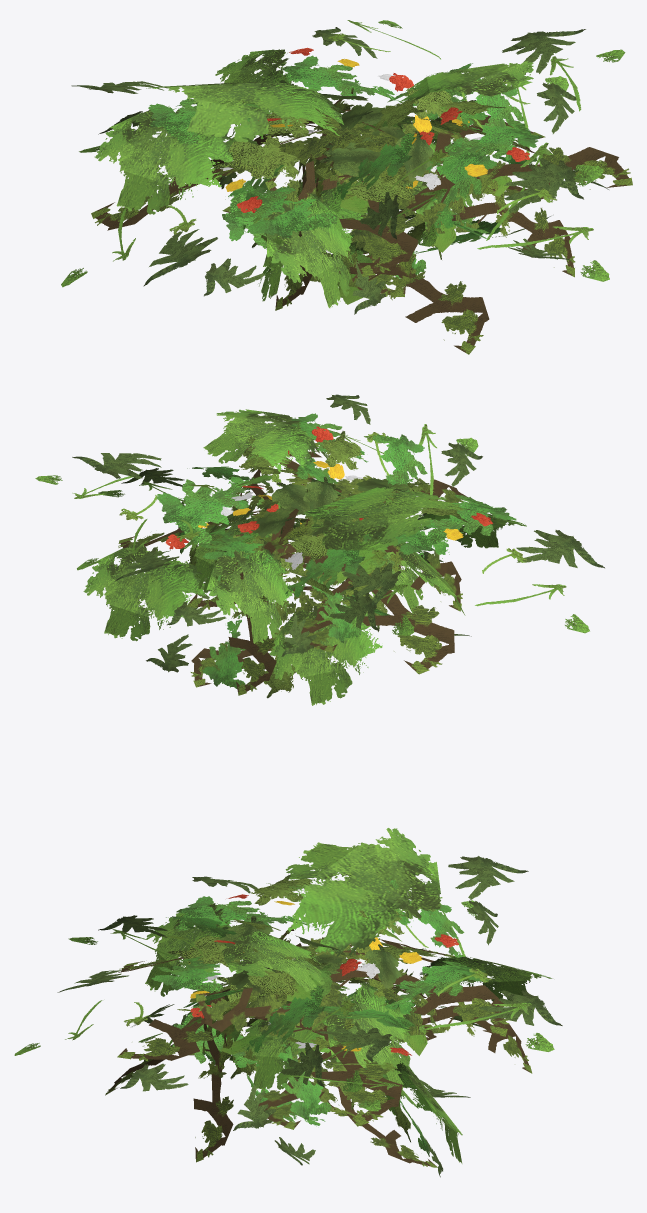
File: Arbre_010_Feuillage.fbx
3 views of the same model, one above another, from view 1: azimuth 30°, elevation 25°; view 2: azimuth 150°, elevation 25°; view 3: azimuth 270°, elevation 25° (orthographic). The views are drawn at different scales.
Parts seen in each view (by area): view 1: Arbre_010_Feuillage; view 2: Arbre_010_Feuillage; view 3: Arbre_010_Feuillage.
Part boxes in pixels (box(x1,y1,x2,y2)): Arbre_010_Feuillage: box(61, 20, 632, 354); Arbre_010_Feuillage: box(35, 394, 604, 705); Arbre_010_Feuillage: box(14, 828, 562, 1177).
Size of the model in its own units: 4.41 by 1.93 by 4.07.
